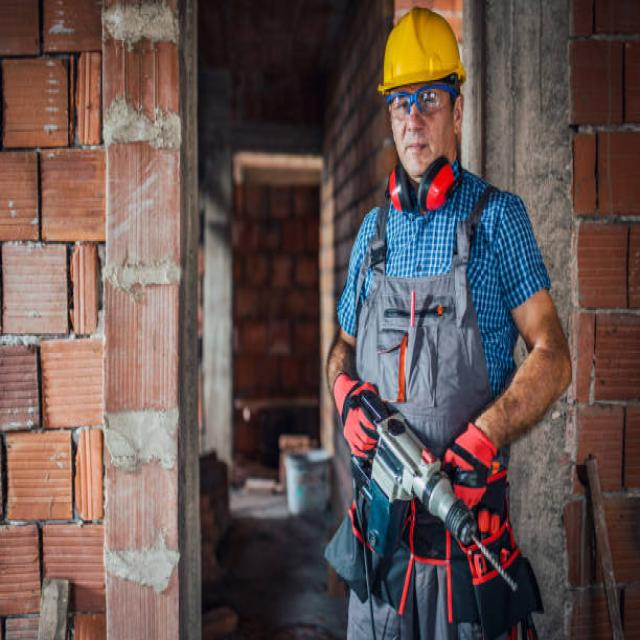gloves: (441, 422, 499, 513), (334, 371, 390, 459)
